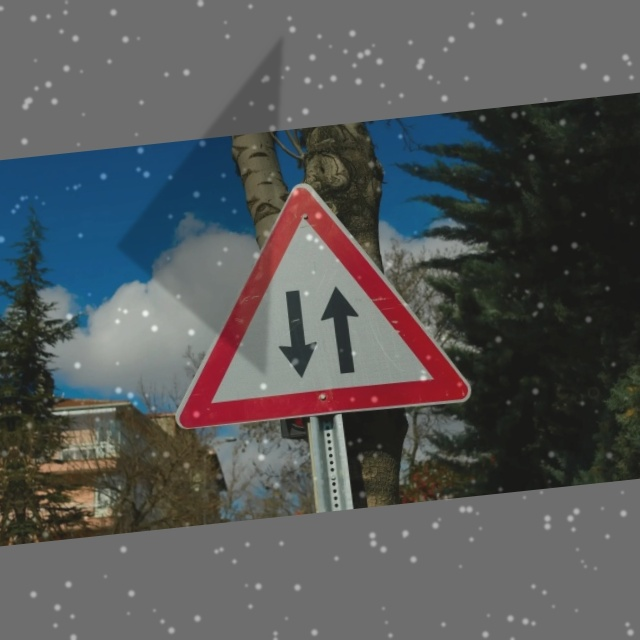Mandatory_Two_Way_Traffic: (154, 169, 473, 436)
